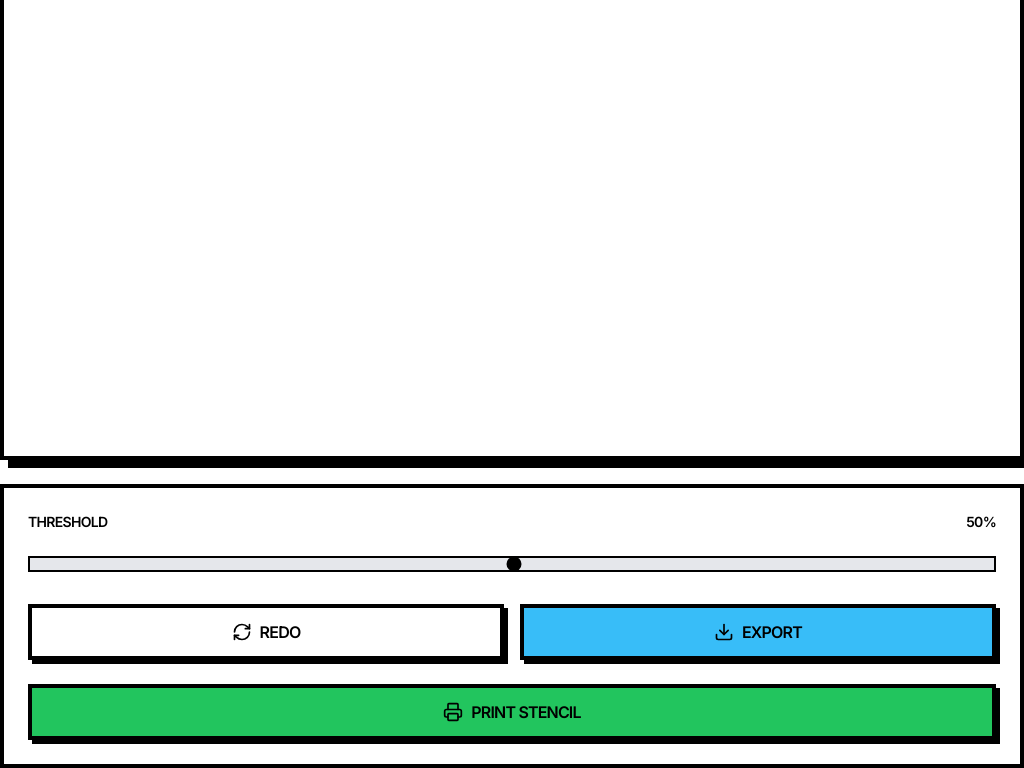
Test: <ThresholdFilter /> › sends the rendered data URL to printd when print is clicked
(page scrolled)
Click the button "Print Stencil" at (512, 712), box left=28, top=684, right=996, bottom=740
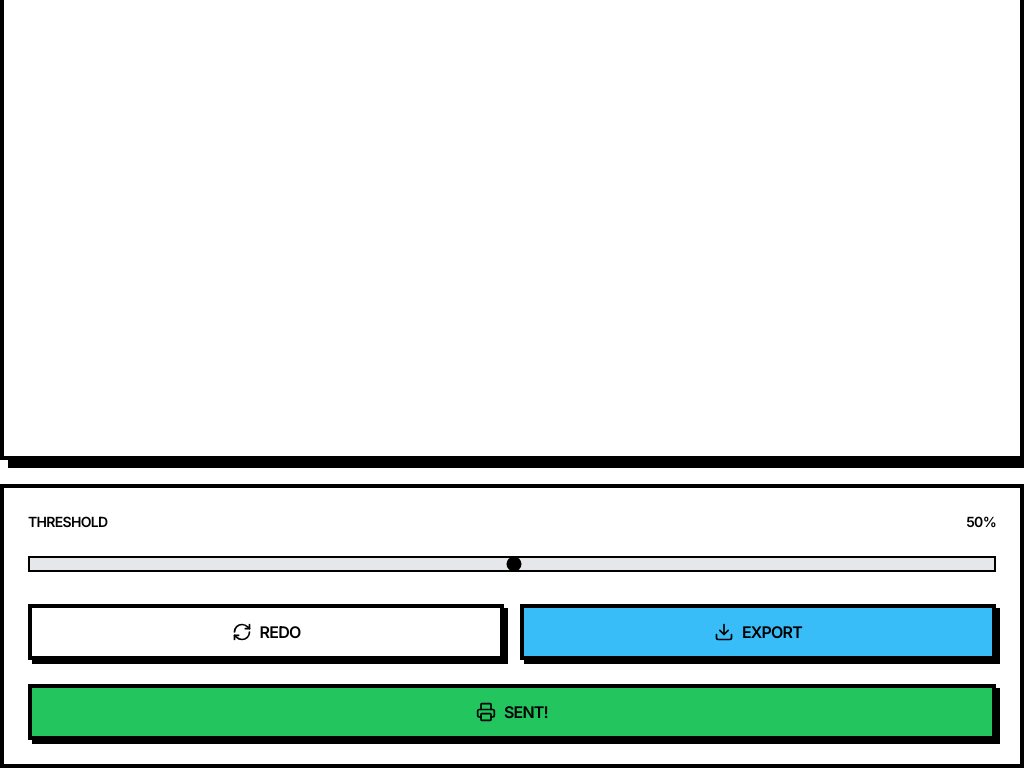
Now the button "Sent!" is shown, box left=28, top=684, right=996, bottom=740
